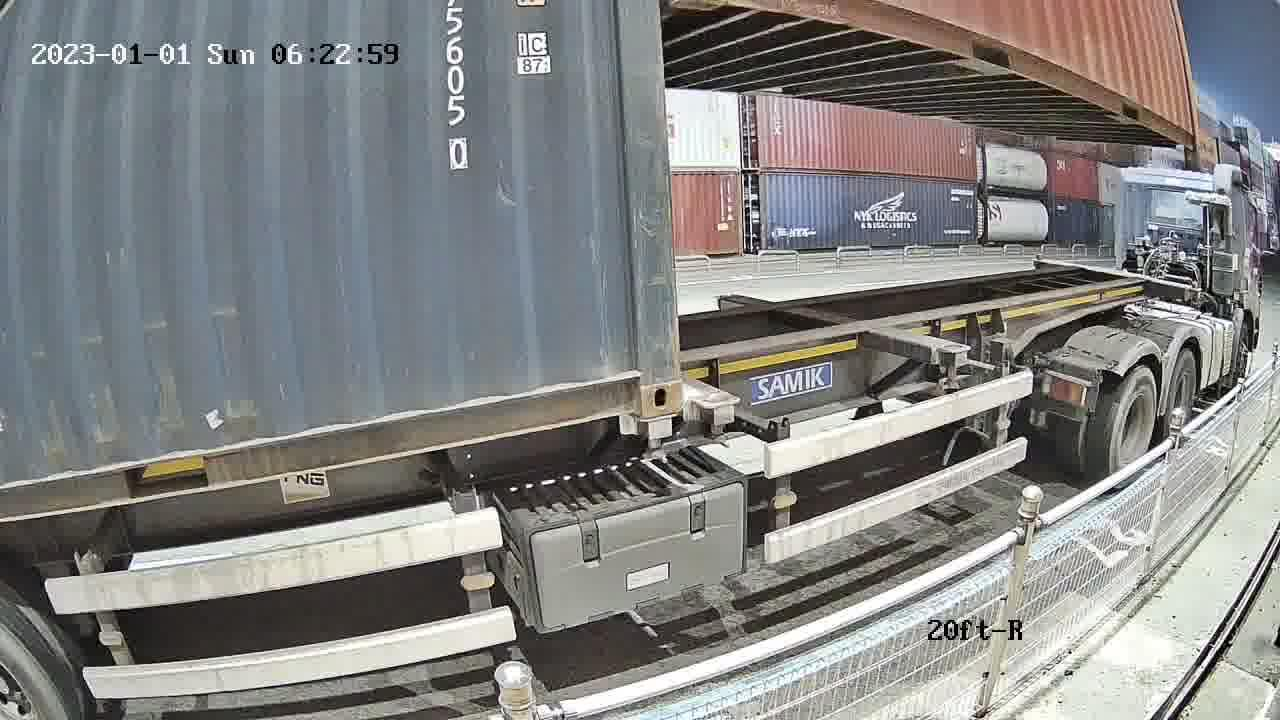Cone: (689, 393, 741, 449), (639, 413, 678, 449)
Hole_R: (593, 340, 683, 419)
Tire: (1108, 367, 1158, 487), (1162, 349, 1198, 449)
